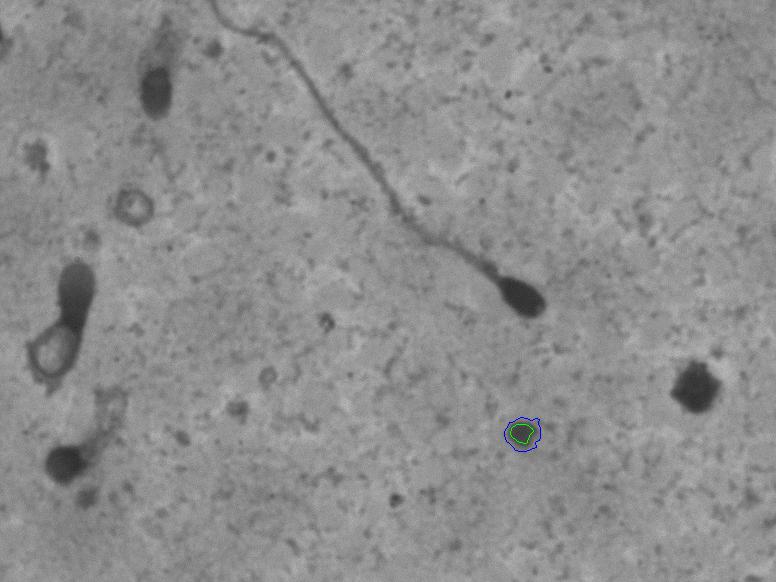Abnormal: (207, 4, 565, 331)
